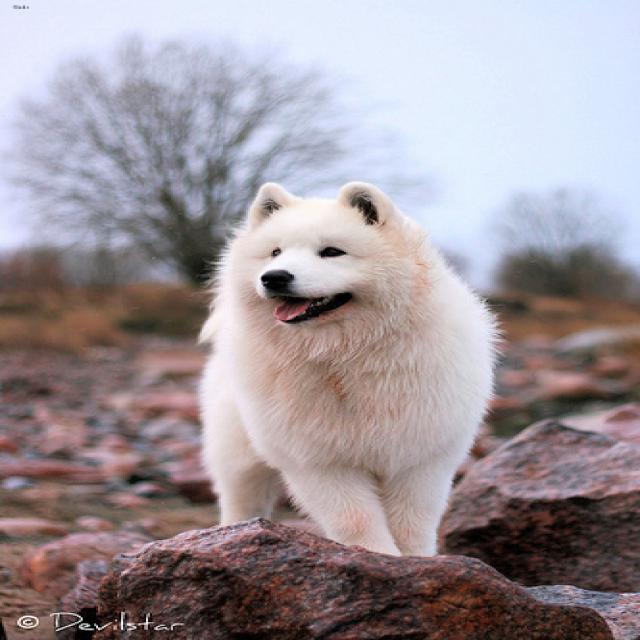dog-samoyed: (185, 173, 513, 559)
